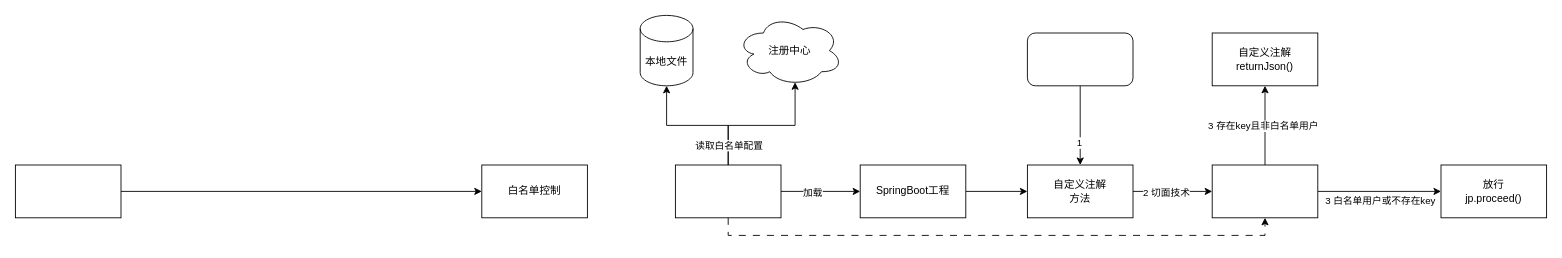
The diagram is 1562 pixels wide and 258 high, and some of its shapes have lost their labels. The box of each missing label's shape, as (x1, y1, x2, y2) in pixels:
DoJoinPoint类 开始处理: (1211, 164, 1318, 218)
服务治理: (15, 164, 121, 218)
用户访问: (1027, 32, 1133, 86)
白名单中间件: (675, 164, 781, 218)
